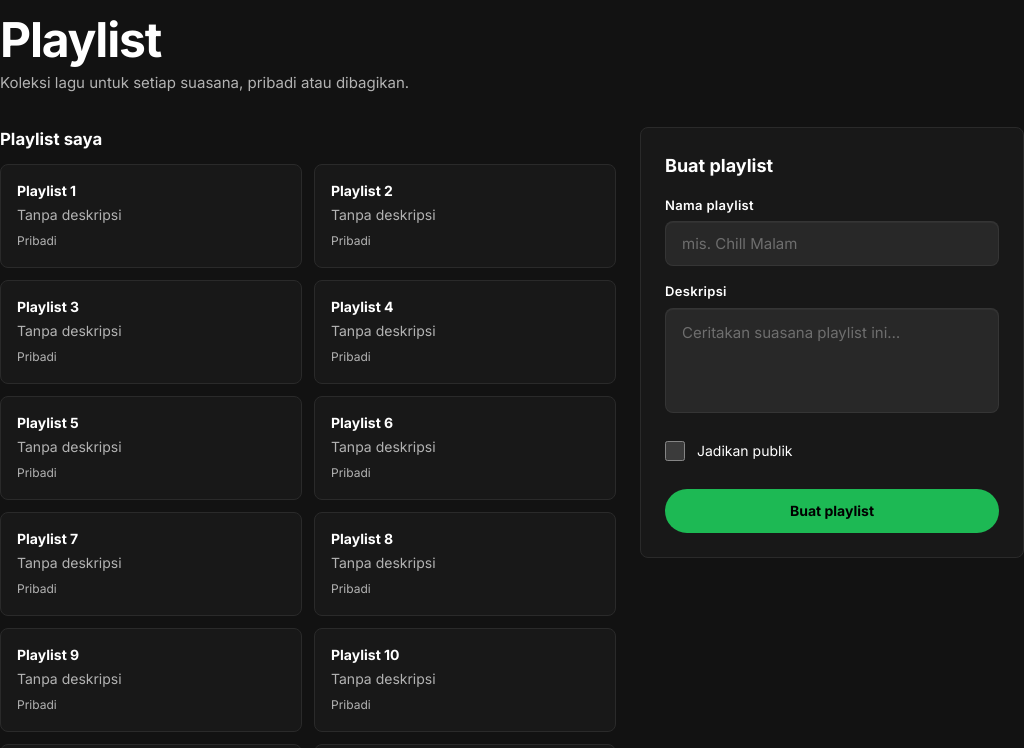
Test: PlaylistsPage pagination › keeps existing pages and exposes refresh retry if a mutation reload fails
Click the text "Playlist 1" at point(47, 190), box [17,182,76,199]
(page scrolled)
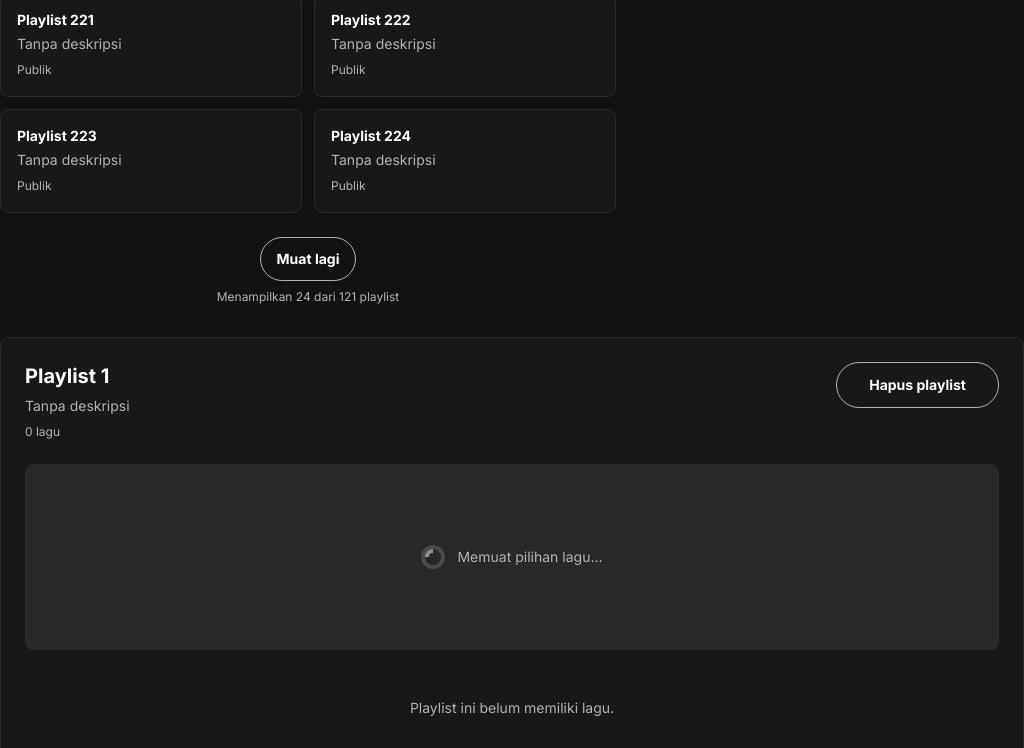
Click the button "Hapus playlist" at point(918, 385), box [836,362,999,408]
(page scrolled)
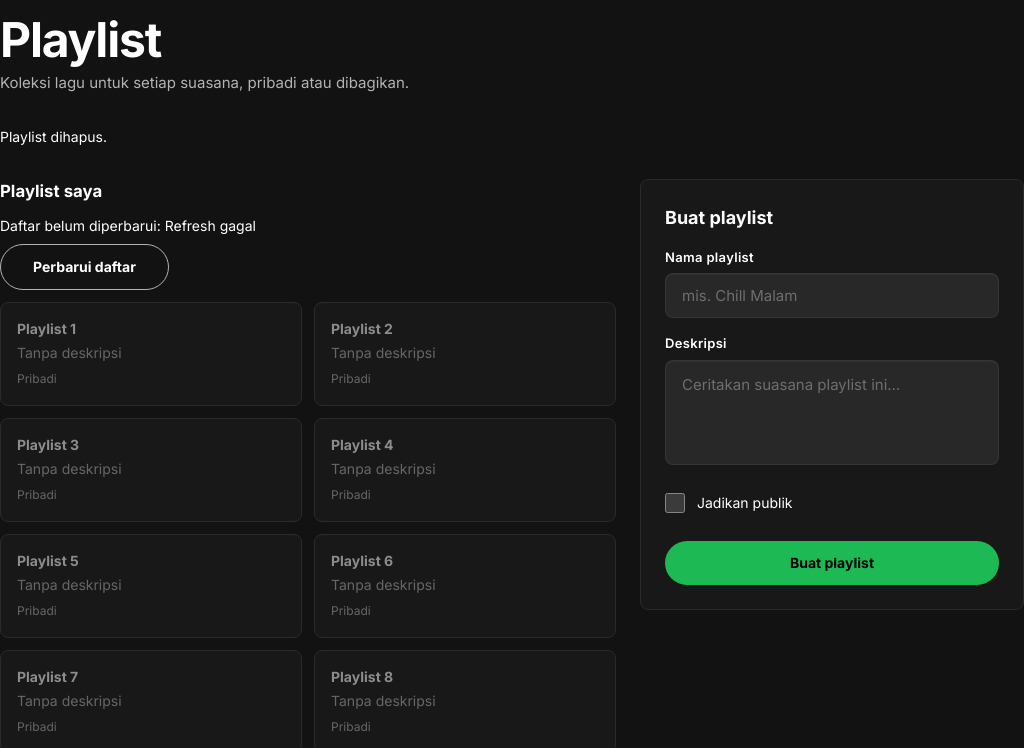
Expected: the text "Playlist 1" is shown, [17,320,76,337]
Expected: the text "Daftar belum diperbarui: Refresh gagal" is shown, [0,217,256,234]
Click the button "Perbarui daftar" at point(84, 267), box [0,244,169,290]
(page scrolled)
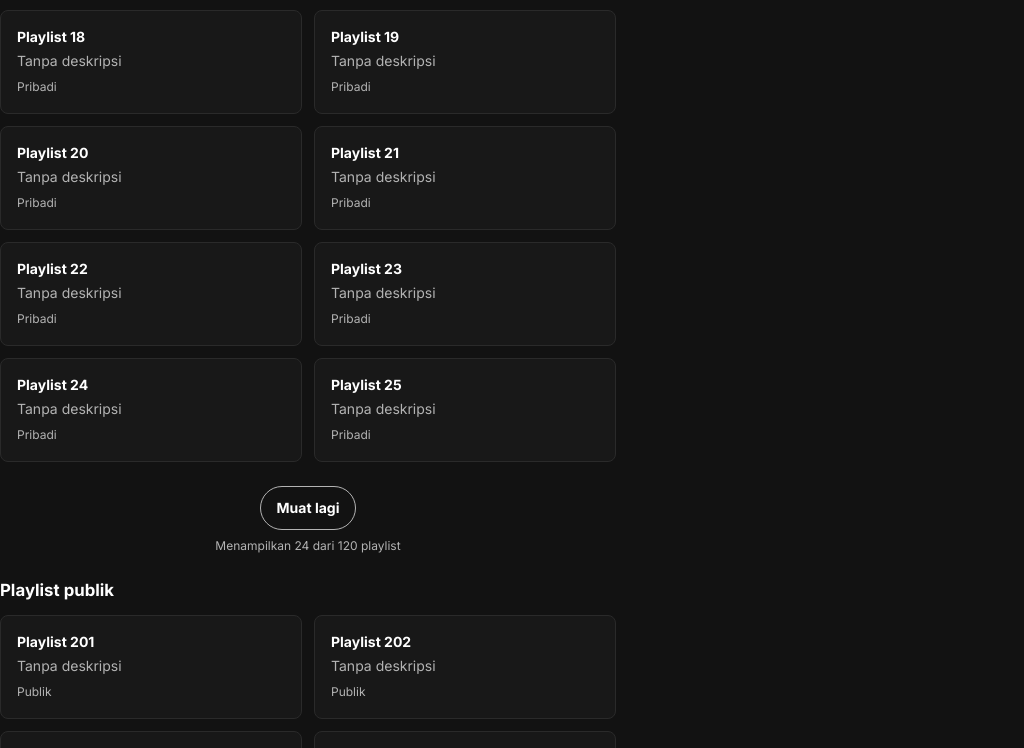
Expected: the text "Playlist 25" is shown, [331,376,402,393]
